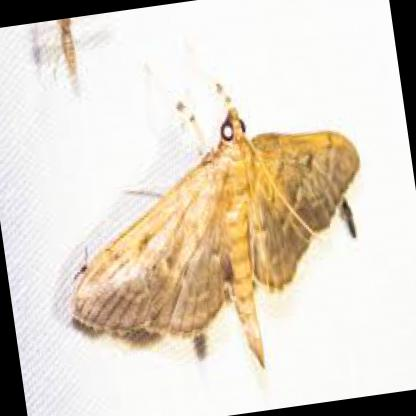Leaf Webber: (75, 105, 360, 370)
